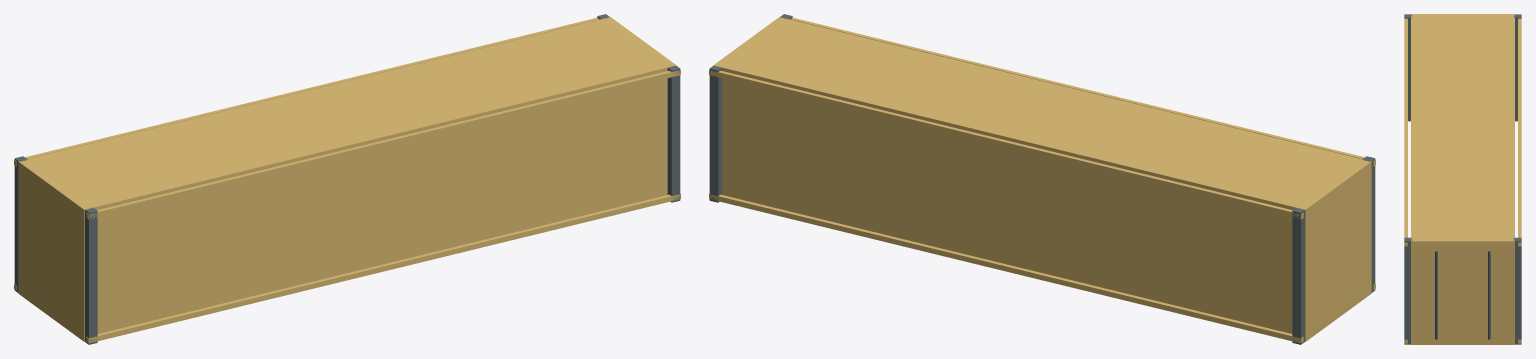
3 views of the same model, side by side, from view 1: azimuth 30°, elevation 25°; view 2: azimuth 150°, elevation 25°; view 3: azimuth 270°, elevation 25° (orthographic). The views are drawn at different scales.
Size of the model in its own units: 12.36 by 2.6 by 2.66.
